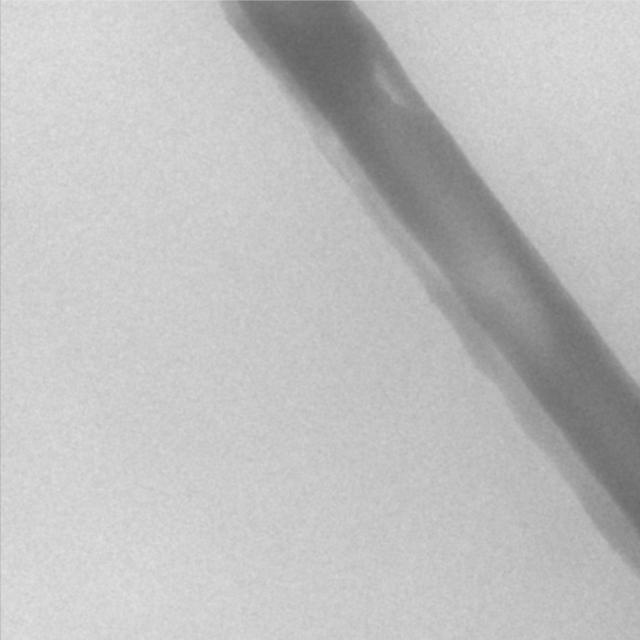unfused: (372, 59, 403, 102)
